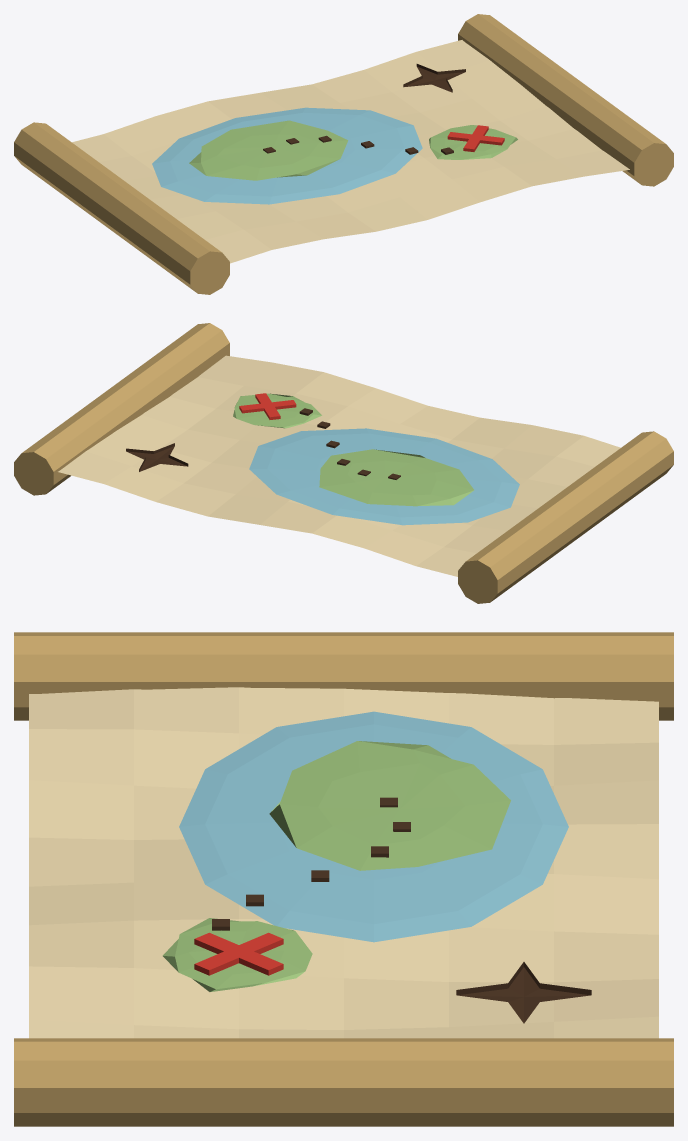
Rendered from ev_treasure_map_v01.glb.
3 renders of one model, top to bottom at view 1: azimuth 30°, elevation 25°; view 2: azimuth 150°, elevation 25°; view 3: azimuth 270°, elevation 25°, orthographic. The views are drawn at different scales.
Parts seen in each view (by area): view 1: treasure_map; view 2: treasure_map; view 3: treasure_map.
Boxes of the visible parts, left/top/right/bottom form: treasure_map: left=14, top=14, right=673, bottom=294; treasure_map: left=14, top=323, right=673, bottom=603; treasure_map: left=14, top=632, right=673, bottom=1126.
Size of the model in its own units: 0.6971 by 0.06 by 0.44.
